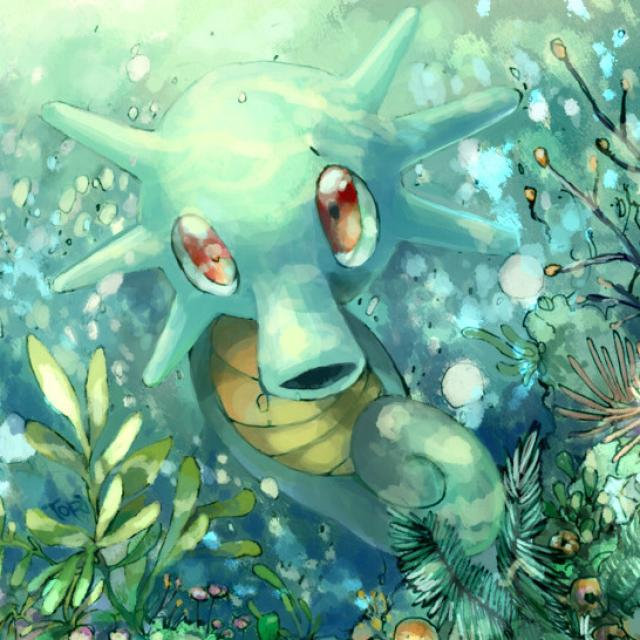Horsea: (117, 47, 502, 560)
